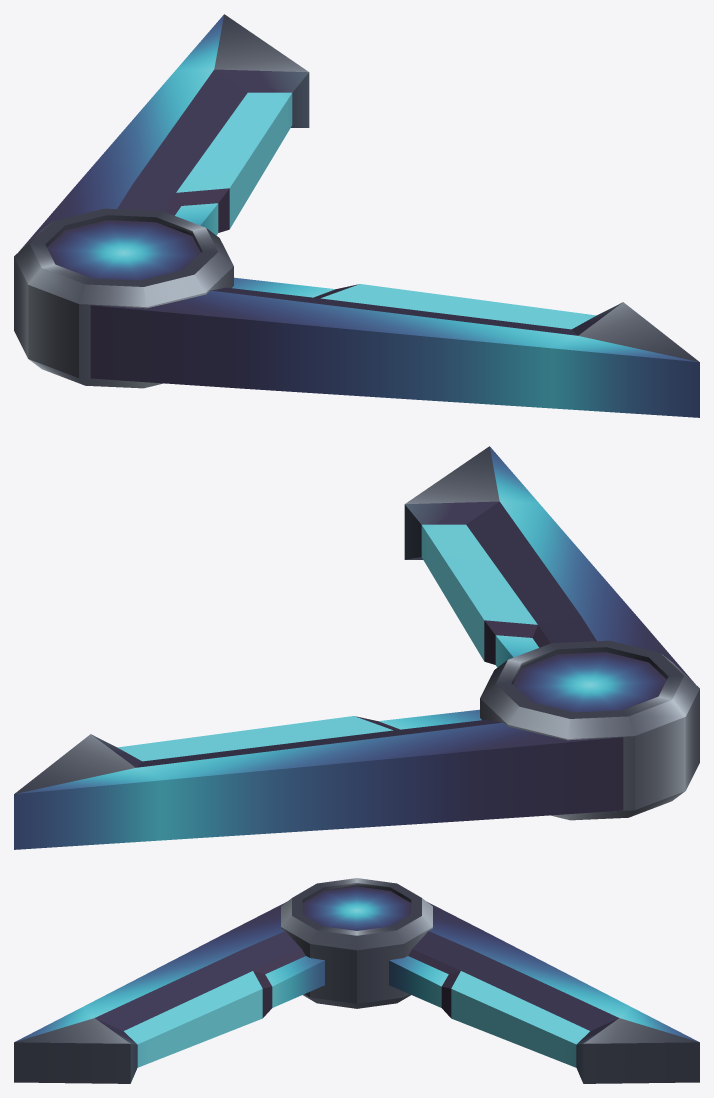
The model's file is vk_t5_a5_gop1.fbx.
3 views of the same model, one above another, from view 1: azimuth 30°, elevation 25°; view 2: azimuth 150°, elevation 25°; view 3: azimuth 270°, elevation 25° (orthographic). The views are drawn at different scales.
Visible parts, largest first — view 1: vk_t5_a5_gop1; view 2: vk_t5_a5_gop1; view 3: vk_t5_a5_gop1.
Boxes of the visible parts, left/top/right/bottom form: vk_t5_a5_gop1: left=14, top=14, right=699, bottom=417; vk_t5_a5_gop1: left=14, top=446, right=699, bottom=849; vk_t5_a5_gop1: left=14, top=878, right=699, bottom=1083.
Bounding box in the file's own units: 55.13 × 12.19 × 104.
